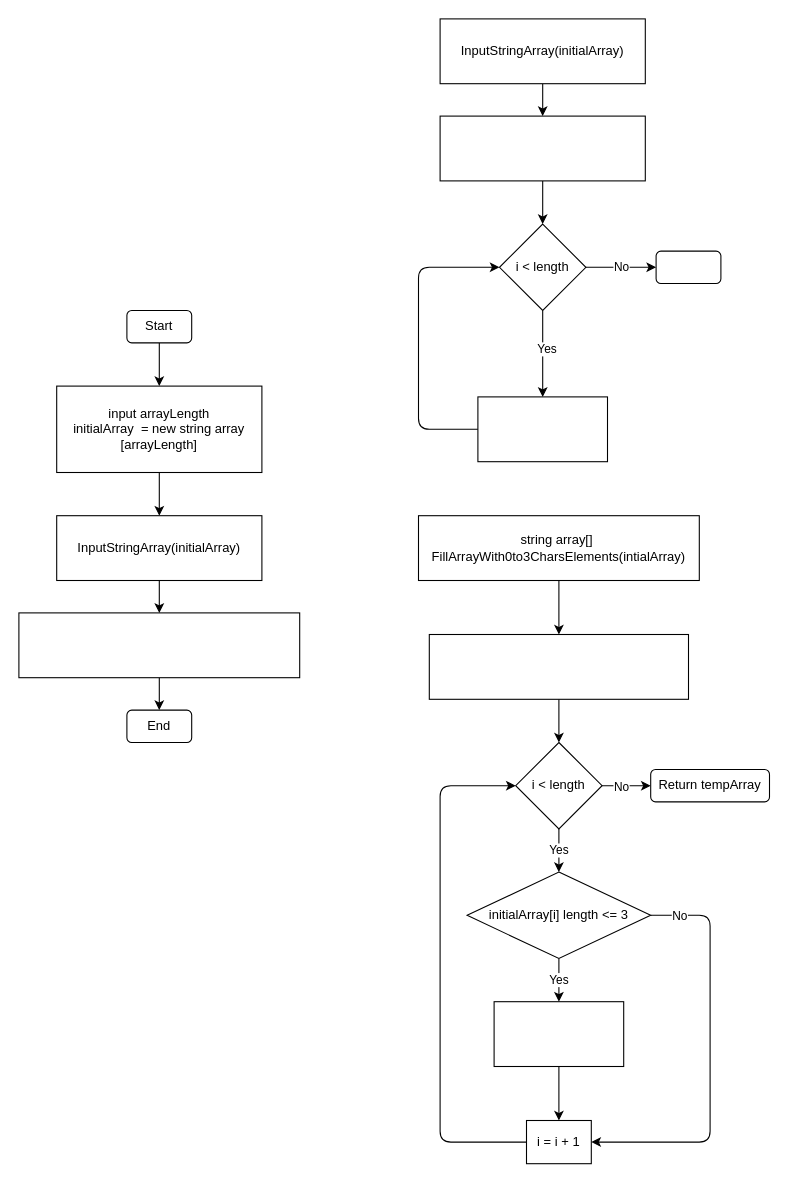
Some shapes in this 788 by 1183 pixel diagram are drawn without their labels. Each missing label, with the box of its shape:
initialArray[i] = Console Input i = i + 1: (477, 396, 608, 462)
int i = 0 int length = initialArray length: (439, 115, 645, 181)
length = intialArray length tempArray = new string array [0] int i = 0 int j = 0: (428, 633, 688, 699)
Print FillArrayWith0to3CharsElements(intialArray): (18, 612, 300, 678)
Return: (655, 250, 721, 284)
tempArray[j] = initialArray[i] j = j + 1: (493, 1001, 624, 1066)
